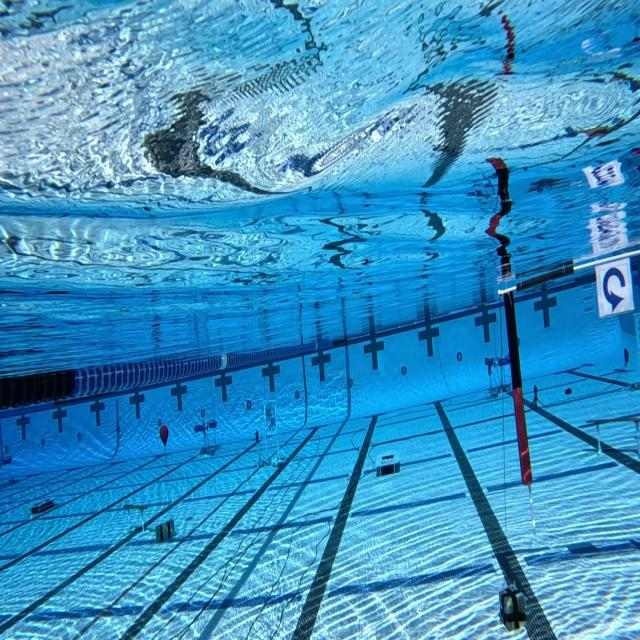blue_side: (591, 252, 636, 326)
